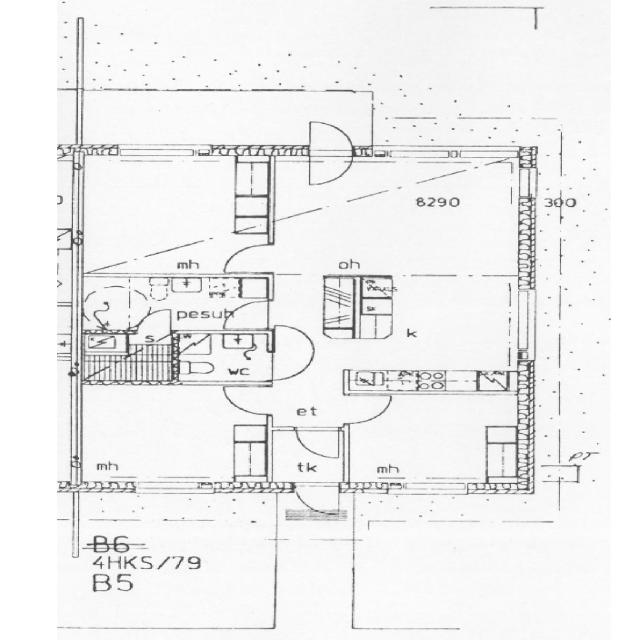door: (305, 118, 356, 188), (220, 240, 277, 276), (342, 390, 397, 426), (218, 383, 272, 417), (294, 426, 346, 461), (293, 482, 343, 518), (227, 298, 276, 330), (134, 308, 174, 336)
window: (62, 378, 88, 466), (507, 288, 537, 358), (61, 165, 91, 234), (395, 480, 469, 496), (516, 165, 538, 201)
zone: (269, 157, 529, 277), (274, 276, 522, 392), (75, 156, 262, 276), (75, 382, 267, 492), (345, 390, 528, 490), (77, 277, 274, 332), (172, 330, 274, 386), (81, 334, 176, 386), (539, 466, 581, 484)
